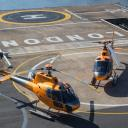helicopter: (1, 50, 97, 124), (88, 22, 128, 89)
